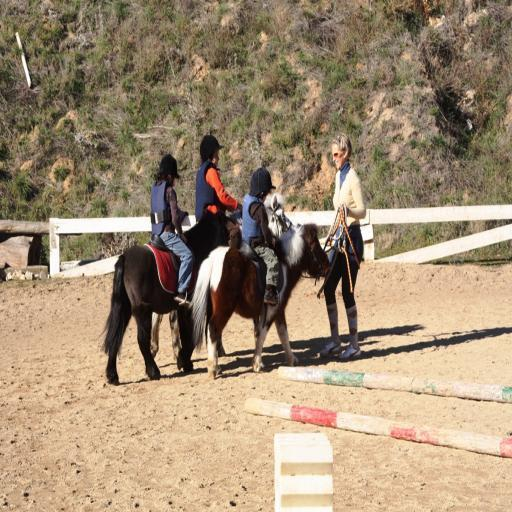horse: (98, 204, 240, 388), (147, 194, 294, 360), (189, 224, 331, 376), (224, 193, 295, 243)
